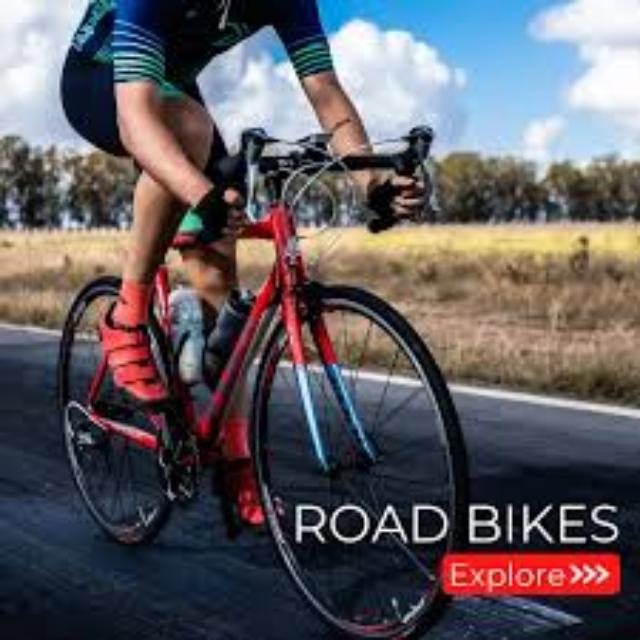obstacle: (58, 135, 500, 640)
